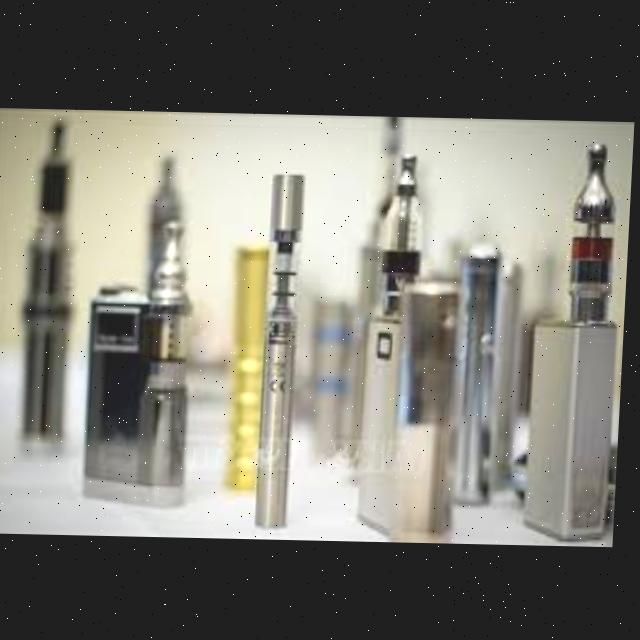vape: (361, 152, 478, 541), (530, 139, 629, 542), (85, 219, 202, 511), (19, 119, 88, 454), (260, 172, 308, 530)
